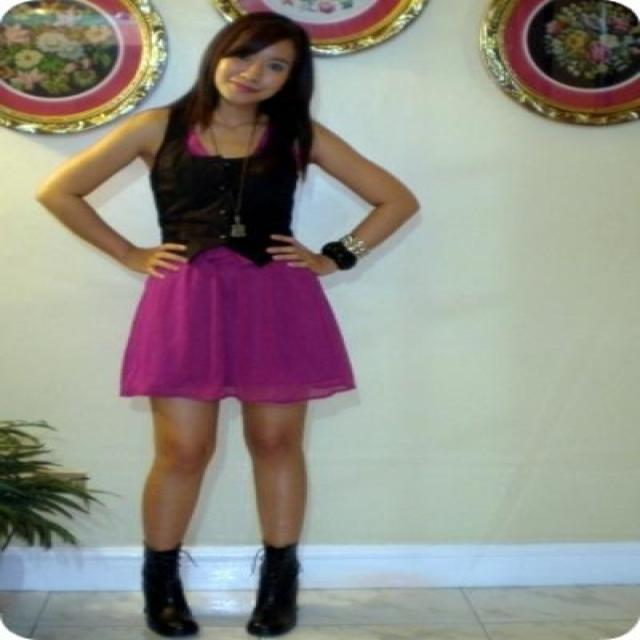jacket: (149, 104, 315, 266)
shoe: (142, 543, 298, 639)
skirt: (120, 248, 354, 406)
